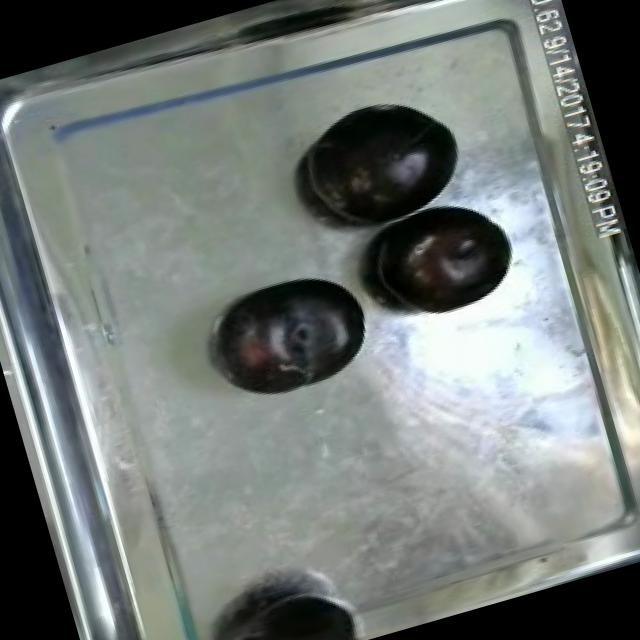Fruit: (284, 79, 478, 244), (198, 256, 380, 412), (362, 184, 528, 330), (200, 570, 368, 640)
